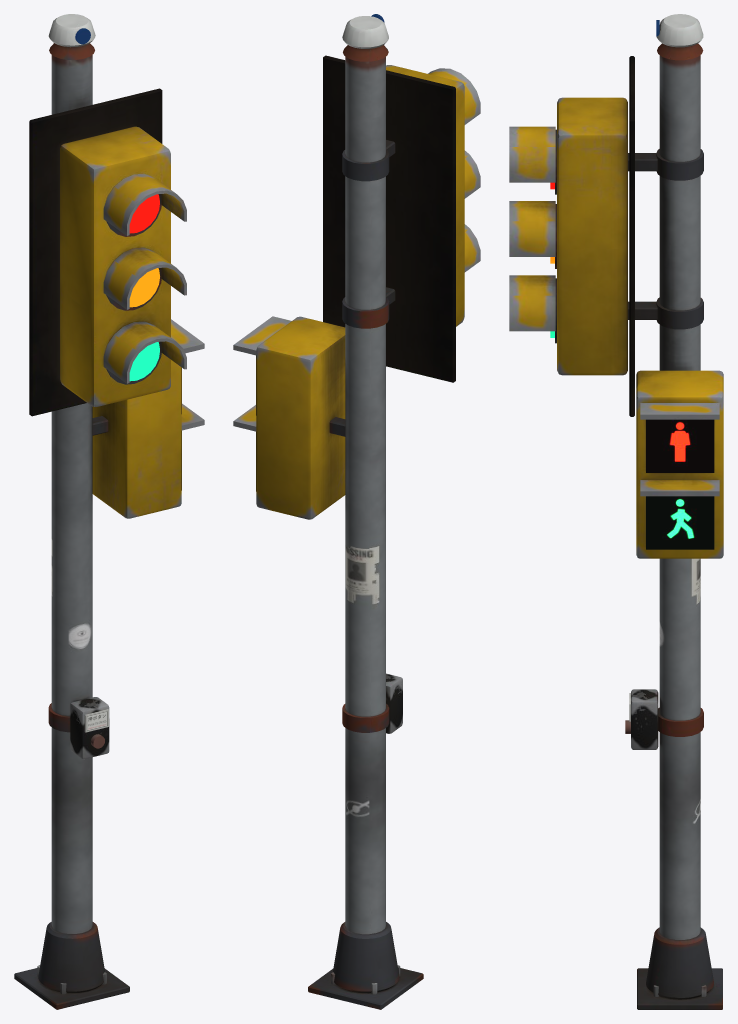
The model's file is traffic_light_pole.glb.
The picture shows the model from 3 angles, left to right: view 1: azimuth 30°, elevation 25°; view 2: azimuth 150°, elevation 25°; view 3: azimuth 270°, elevation 25°; orthographic projection.
Visible parts, largest first — view 1: traffic_light_pole, Lamp_A_Red, Lamp_A_Amber, Lamp_A_Green; view 2: traffic_light_pole; view 3: traffic_light_pole, Ped_A_Walk, Ped_A_Stop.
Boxes of the visible parts, x1,y1,x2,y2 form: traffic_light_pole: (14,14,204,1009); Lamp_A_Red: (129,194,159,233); Lamp_A_Amber: (129,268,159,307); Lamp_A_Green: (129,342,159,381); traffic_light_pole: (233,14,480,1009); traffic_light_pole: (509,14,723,1009); Ped_A_Walk: (646,496,714,549); Ped_A_Stop: (646,419,714,472).
Size of what is drawn, in the model's own units: 0.76 by 3.92 by 0.785.
Materials: 1 (1 with a texture image).
